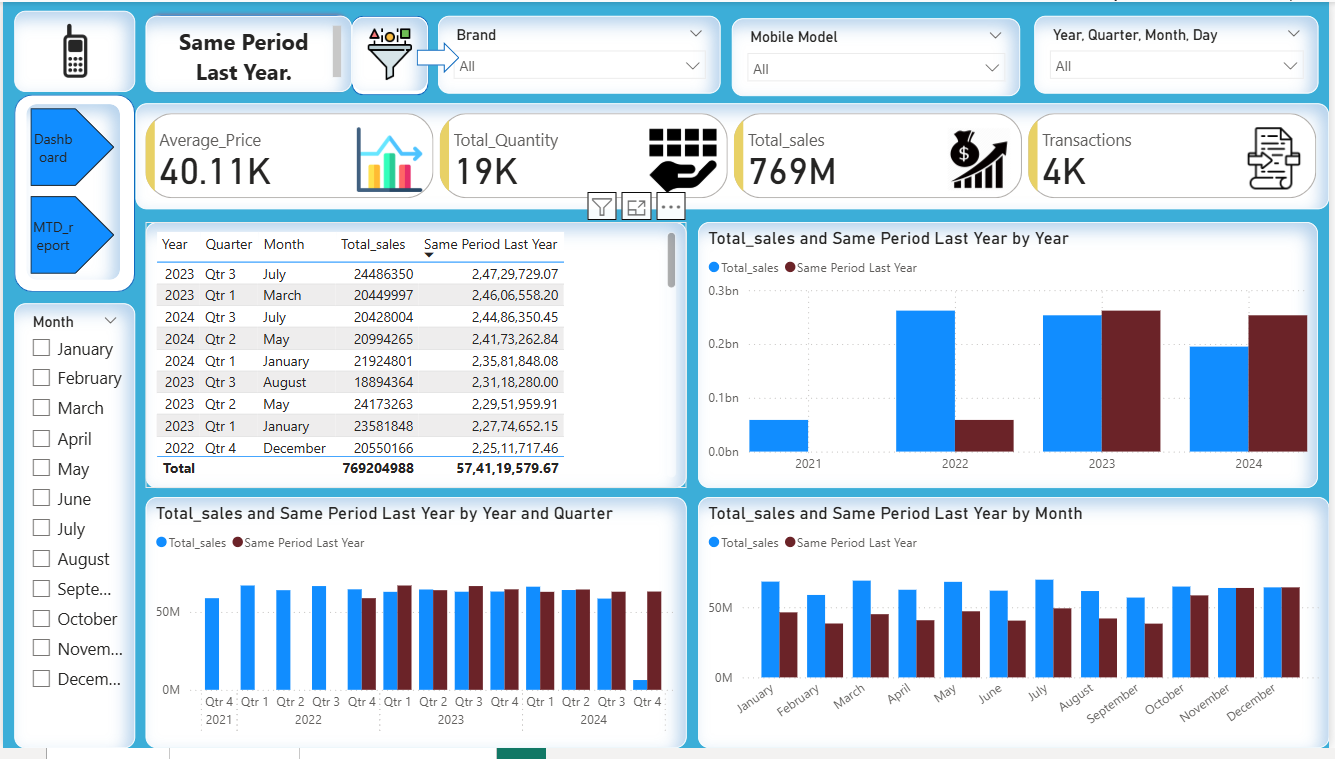

The page's visual inventory and layout, read from the dashboard file:
{"tool":"powerbi","page":{"name":"Same Period last year","canvas":[1280,720],"ordinal":2},"visuals":[{"type":"shape","box":[11,8.2,116.6,78.2],"z":0},{"type":"image","box":[10.9,8.4,117,78.4],"z":1000},{"type":"shape","box":[11,89.2,116.6,190.7],"z":2000},{"type":"shape","box":[11,290.9,116.6,418.5],"z":3000},{"type":"cardVisual","fields":{"Data":["sales_data.Average_Price","sales_data.Total_Quantity","sales_data.Total_sales","sales_data.Transactions"]},"box":[127.9,97.7,1152.2,102.5],"z":4000},{"type":"slicer","fields":{"Values":["Custom_Calender.date.Variation.Date Hierarchy.Year","Custom_Calender.date.Variation.Date Hierarchy.Quarter","Custom_Calender.date.Variation.Date Hierarchy.Month","Custom_Calender.date.Variation.Date Hierarchy.Day"]},"box":[994.9,13.7,274.4,75.5],"z":5000},{"type":"slicer","fields":{"Values":["sales_data.Mobile Model"]},"box":[703.9,15.1,278.6,75.5],"z":6000},{"type":"slicer","fields":{"Values":["sales_data.Brand"]},"box":[419.9,13.7,273.1,75.5],"z":7000},{"type":"shape","box":[336.2,13.7,74.1,76.8],"z":8000},{"type":"image","box":[336.6,14.5,73.6,72.4],"z":9000},{"type":"shape","box":[399.3,38.4,41.2,30.2],"z":10000},{"type":"shape","box":[137.2,8.2,199,81],"z":11000},{"type":"textbox","box":[137.5,13.3,199.1,73.6],"z":12000},{"type":"slicer","fields":{"Values":["Custom_Calender.date.Variation.Date Hierarchy.Month"]},"box":[10.9,290.8,117,429.5],"z":14000},{"type":"tableEx","fields":{"Values":["Custom_Calender.date.Variation.Date Hierarchy.Year","Custom_Calender.date.Variation.Date Hierarchy.Quarter","Custom_Calender.date.Variation.Date Hierarchy.Month","sales_data.Total_sales","sales_data.Same Period Last Year"]},"box":[137.5,212.3,522.4,257],"z":15000},{"type":"lineClusteredColumnComboChart","fields":{"Category":["Custom_Calender.date.Variation.Date Hierarchy.Year","Custom_Calender.date.Variation.Date Hierarchy.Quarter","Custom_Calender.date.Variation.Date Hierarchy.Month"],"Y":["sales_data.Total_sales","sales_data.Same Period Last Year"]},"box":[670.8,212.3,598.4,257],"z":16000},{"type":"lineClusteredColumnComboChart","fields":{"Category":["Custom_Calender.date.Variation.Date Hierarchy.Year","Custom_Calender.date.Variation.Date Hierarchy.Quarter","Custom_Calender.date.Variation.Date Hierarchy.Month"],"Y":["sales_data.Total_sales","sales_data.Same Period Last Year"]},"box":[670.8,477.8,609.3,242.5],"z":17000},{"type":"lineClusteredColumnComboChart","fields":{"Category":["Custom_Calender.date.Variation.Date Hierarchy.Year","Custom_Calender.date.Variation.Date Hierarchy.Quarter","Custom_Calender.date.Variation.Date Hierarchy.Month"],"Y":["sales_data.Total_sales","sales_data.Same Period Last Year"]},"box":[137.5,477.8,522.4,242.5],"z":18000},{"type":"pageNavigator","box":[21.7,97.7,91.7,171.3],"z":19000}]}

Visuals, with their boxes on the page's 1280x720 design canvas (x1, y1, x2, y2). These are canvas units, not pixel positions in the 1335x759 screenshot, which may show the page scaled, cropped or inside an application window:
shape: {"x1": 11, "y1": 8, "x2": 128, "y2": 86}
image: {"x1": 11, "y1": 8, "x2": 128, "y2": 87}
shape: {"x1": 11, "y1": 89, "x2": 128, "y2": 280}
shape: {"x1": 11, "y1": 291, "x2": 128, "y2": 709}
cardVisual - sales_data.Average_Price x sales_data.Total_Quantity: {"x1": 128, "y1": 98, "x2": 1280, "y2": 200}
slicer - Custom_Calender.date.Variation.Date Hierarchy.Year x Custom_Calender.date.Variation.Date Hierarchy.Quarter: {"x1": 995, "y1": 14, "x2": 1269, "y2": 89}
slicer - sales_data.Mobile Model: {"x1": 704, "y1": 15, "x2": 982, "y2": 91}
slicer - sales_data.Brand: {"x1": 420, "y1": 14, "x2": 693, "y2": 89}
shape: {"x1": 336, "y1": 14, "x2": 410, "y2": 90}
image: {"x1": 337, "y1": 14, "x2": 410, "y2": 87}
shape: {"x1": 399, "y1": 38, "x2": 440, "y2": 69}
shape: {"x1": 137, "y1": 8, "x2": 336, "y2": 89}
textbox: {"x1": 138, "y1": 13, "x2": 337, "y2": 87}
slicer - Custom_Calender.date.Variation.Date Hierarchy.Month: {"x1": 11, "y1": 291, "x2": 128, "y2": 720}
tableEx - Custom_Calender.date.Variation.Date Hierarchy.Year x Custom_Calender.date.Variation.Date Hierarchy.Quarter: {"x1": 138, "y1": 212, "x2": 660, "y2": 469}
lineClusteredColumnComboChart - Custom_Calender.date.Variation.Date Hierarchy.Year x Custom_Calender.date.Variation.Date Hierarchy.Quarter: {"x1": 671, "y1": 212, "x2": 1269, "y2": 469}
lineClusteredColumnComboChart - Custom_Calender.date.Variation.Date Hierarchy.Year x Custom_Calender.date.Variation.Date Hierarchy.Quarter: {"x1": 671, "y1": 478, "x2": 1280, "y2": 720}
lineClusteredColumnComboChart - Custom_Calender.date.Variation.Date Hierarchy.Year x Custom_Calender.date.Variation.Date Hierarchy.Quarter: {"x1": 138, "y1": 478, "x2": 660, "y2": 720}
pageNavigator: {"x1": 22, "y1": 98, "x2": 113, "y2": 269}
